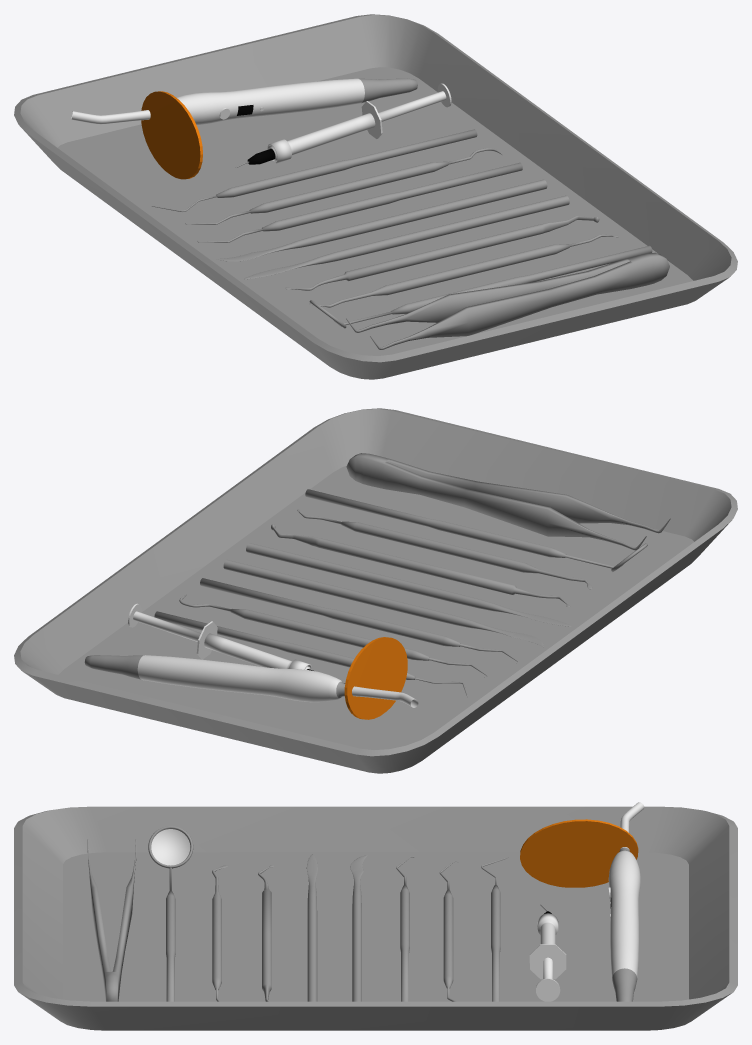
The model's file is all together.fbx.
3 renders of one model, top to bottom at view 1: azimuth 30°, elevation 25°; view 2: azimuth 150°, elevation 25°; view 3: azimuth 270°, elevation 25°, orthographic.
Parts seen in each view (by area): view 1: BandejaInstrumentos, PinzaBiangulada, LamparaFotocurado, LamparaFotocurado.001, JeringaResina, SindesmotomoPuntaCurva, Sindesmotomo, Cucharilla de Dentina, Sonda de Explora, SondaOMS, Gutaperchero, Sonda Doble (+1 smaller); view 2: BandejaInstrumentos, PinzaBiangulada, LamparaFotocurado, LamparaFotocurado.001, SindesmotomoPuntaCurva, Sindesmotomo, EspejoExploración, JeringaResina, Sonda de Explora, Cucharilla de Dentina, Gutaperchero, Sonda Doble (+1 smaller); view 3: BandejaInstrumentos, LamparaFotocurado.001, LamparaFotocurado, EspejoExploración, PinzaBiangulada, JeringaResina, Sindesmotomo, SindesmotomoPuntaCurva, Cucharilla de Dentina, Sonda Doble, SondaOMS, Sonda de Explora (+1 smaller).
Boxes of the visible parts, x1,y1,x2,y2 form: BandejaInstrumentos: [14, 14, 737, 379]; PinzaBiangulada: [346, 252, 669, 349]; LamparaFotocurado: [71, 78, 417, 125]; LamparaFotocurado.001: [141, 91, 202, 179]; JeringaResina: [235, 83, 451, 168]; SindesmotomoPuntaCurva: [216, 179, 547, 261]; Sindesmotomo: [244, 195, 569, 279]; Cucharilla de Dentina: [285, 216, 599, 290]; Sonda de Explora: [197, 162, 522, 242]; SondaOMS: [152, 129, 477, 211]; Gutaperchero: [310, 234, 618, 307]; Sonda Doble: [185, 148, 502, 224]; BandejaInstrumentos: [14, 408, 737, 773]; PinzaBiangulada: [346, 453, 670, 550]; LamparaFotocurado: [84, 655, 418, 707]; LamparaFotocurado.001: [344, 637, 407, 719]; SindesmotomoPuntaCurva: [223, 560, 543, 647]; Sindesmotomo: [246, 543, 571, 626]; EspejoExploración: [305, 489, 647, 571]; JeringaResina: [128, 603, 345, 683]; Sonda de Explora: [200, 578, 517, 663]; Cucharilla de Dentina: [271, 524, 570, 606]; Gutaperchero: [297, 509, 591, 589]; Sonda Doble: [179, 594, 486, 677]; BandejaInstrumentos: [14, 806, 737, 1030]; LamparaFotocurado.001: [520, 819, 638, 887]; LamparaFotocurado: [608, 802, 644, 1001]; EspejoExploración: [148, 826, 193, 1001]; PinzaBiangulada: [87, 839, 136, 1001]; JeringaResina: [529, 904, 566, 1001]; Sindesmotomo: [306, 854, 317, 1001]; SindesmotomoPuntaCurva: [350, 855, 367, 1001]; Cucharilla de Dentina: [258, 865, 274, 1001]; Sonda Doble: [439, 861, 457, 1001]; SondaOMS: [481, 857, 508, 1001]; Sonda de Explora: [396, 856, 414, 1001].
Size of the model in its own units: 1671 by 293 by 2559.
